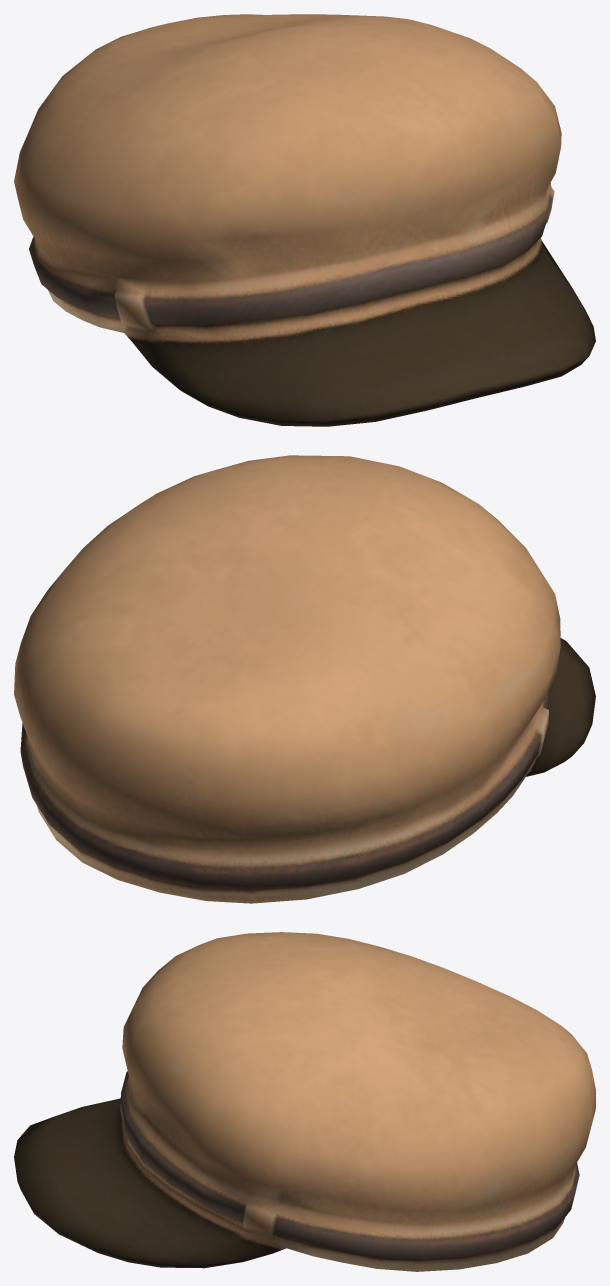
Rendered from HatExplorer.fbx.
3 views of the same model, one above another, from view 1: azimuth 30°, elevation 25°; view 2: azimuth 150°, elevation 25°; view 3: azimuth 270°, elevation 25° (orthographic). The views are drawn at different scales.
Visible parts, largest first — view 1: rig_lob_035909_lv3; view 2: rig_lob_035909_lv3; view 3: rig_lob_035909_lv3.
Part boxes in pixels (x1,y1,x2,y2): rig_lob_035909_lv3: [14, 14, 595, 426]; rig_lob_035909_lv3: [14, 455, 595, 903]; rig_lob_035909_lv3: [14, 932, 595, 1271].
Size of the model in its own units: 33.12 by 18.77 by 41.35.
